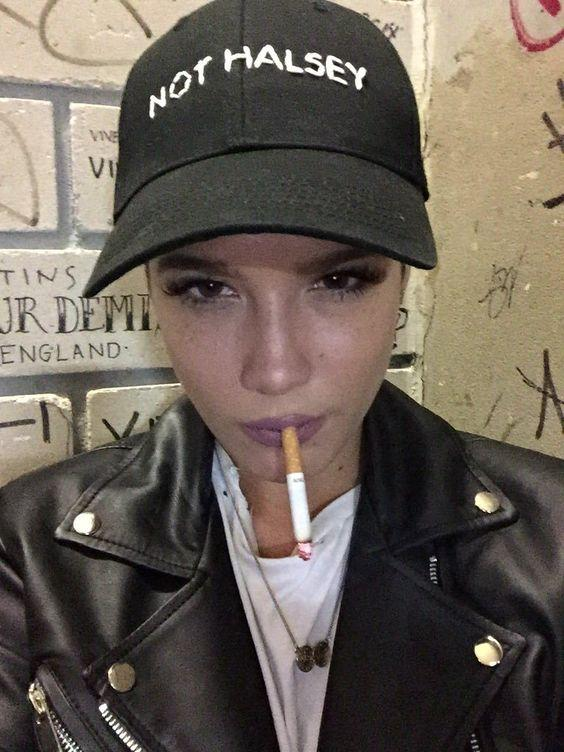cigarette: (281, 427, 312, 562)
